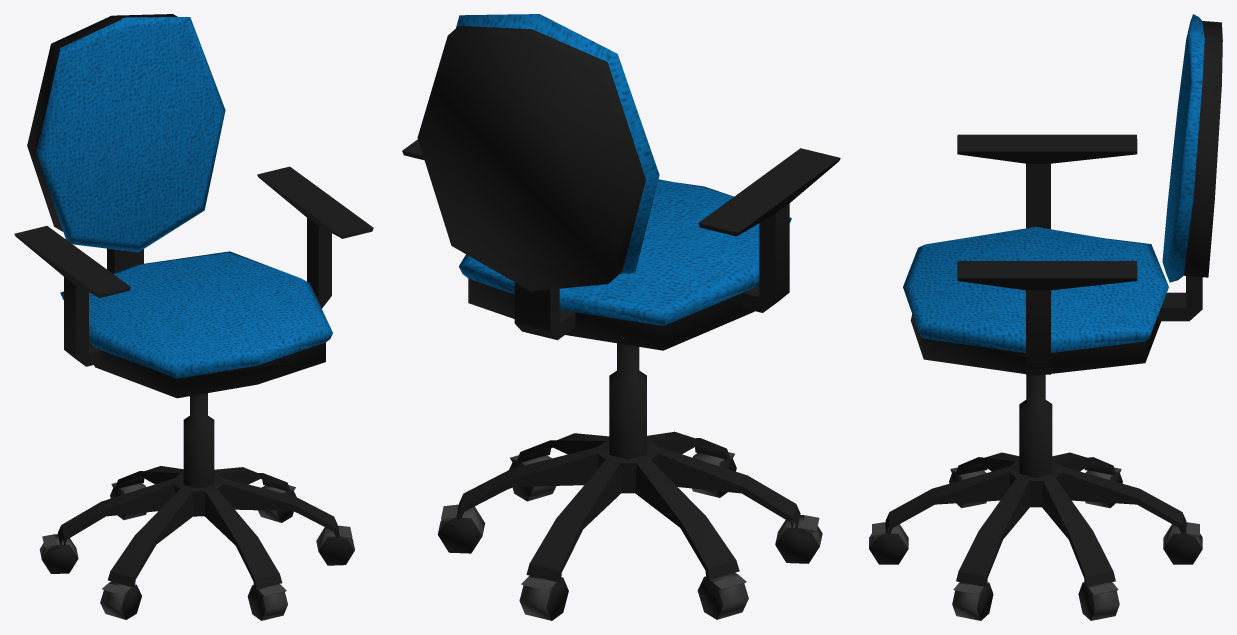
Rendered from Computer_Chair_B.FBX.
3 renders of one model, left to right at view 1: azimuth 30°, elevation 25°; view 2: azimuth 150°, elevation 25°; view 3: azimuth 270°, elevation 25°, orthographic. The views are drawn at different scales.
Parts seen in each view (by area): view 1: Computer_chair; view 2: Computer_chair; view 3: Computer_chair.
Part boxes in pixels (<box>): Computer_chair: <box>14,14,373,620</box>; Computer_chair: <box>402,14,840,620</box>; Computer_chair: <box>869,14,1222,620</box>.
Size of the model in its own units: 83.09 by 142 by 86.34.
